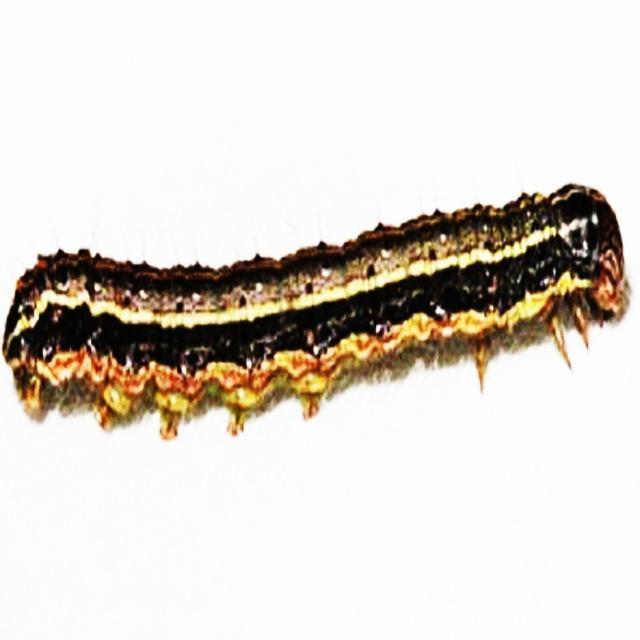Plaga: (4, 186, 640, 439)
